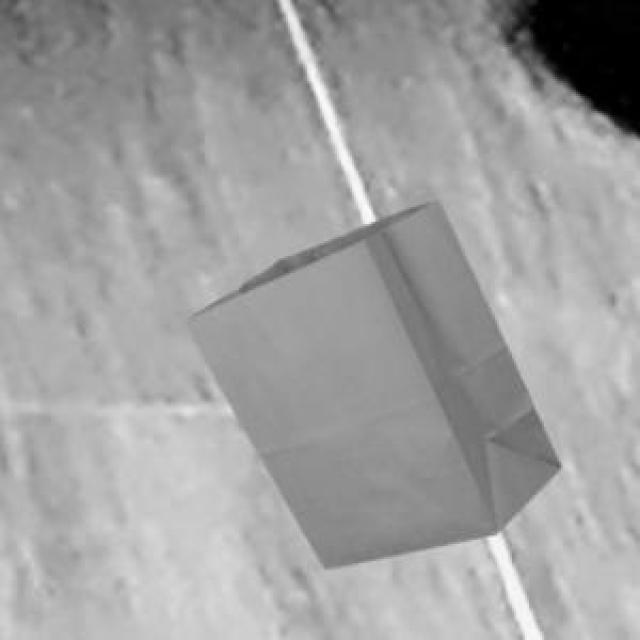paper: (179, 196, 557, 565)
